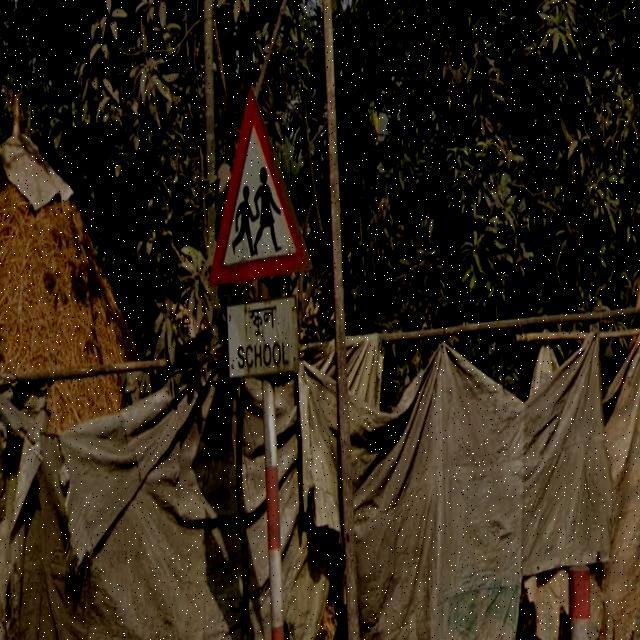School-in-front: (209, 83, 309, 383)
